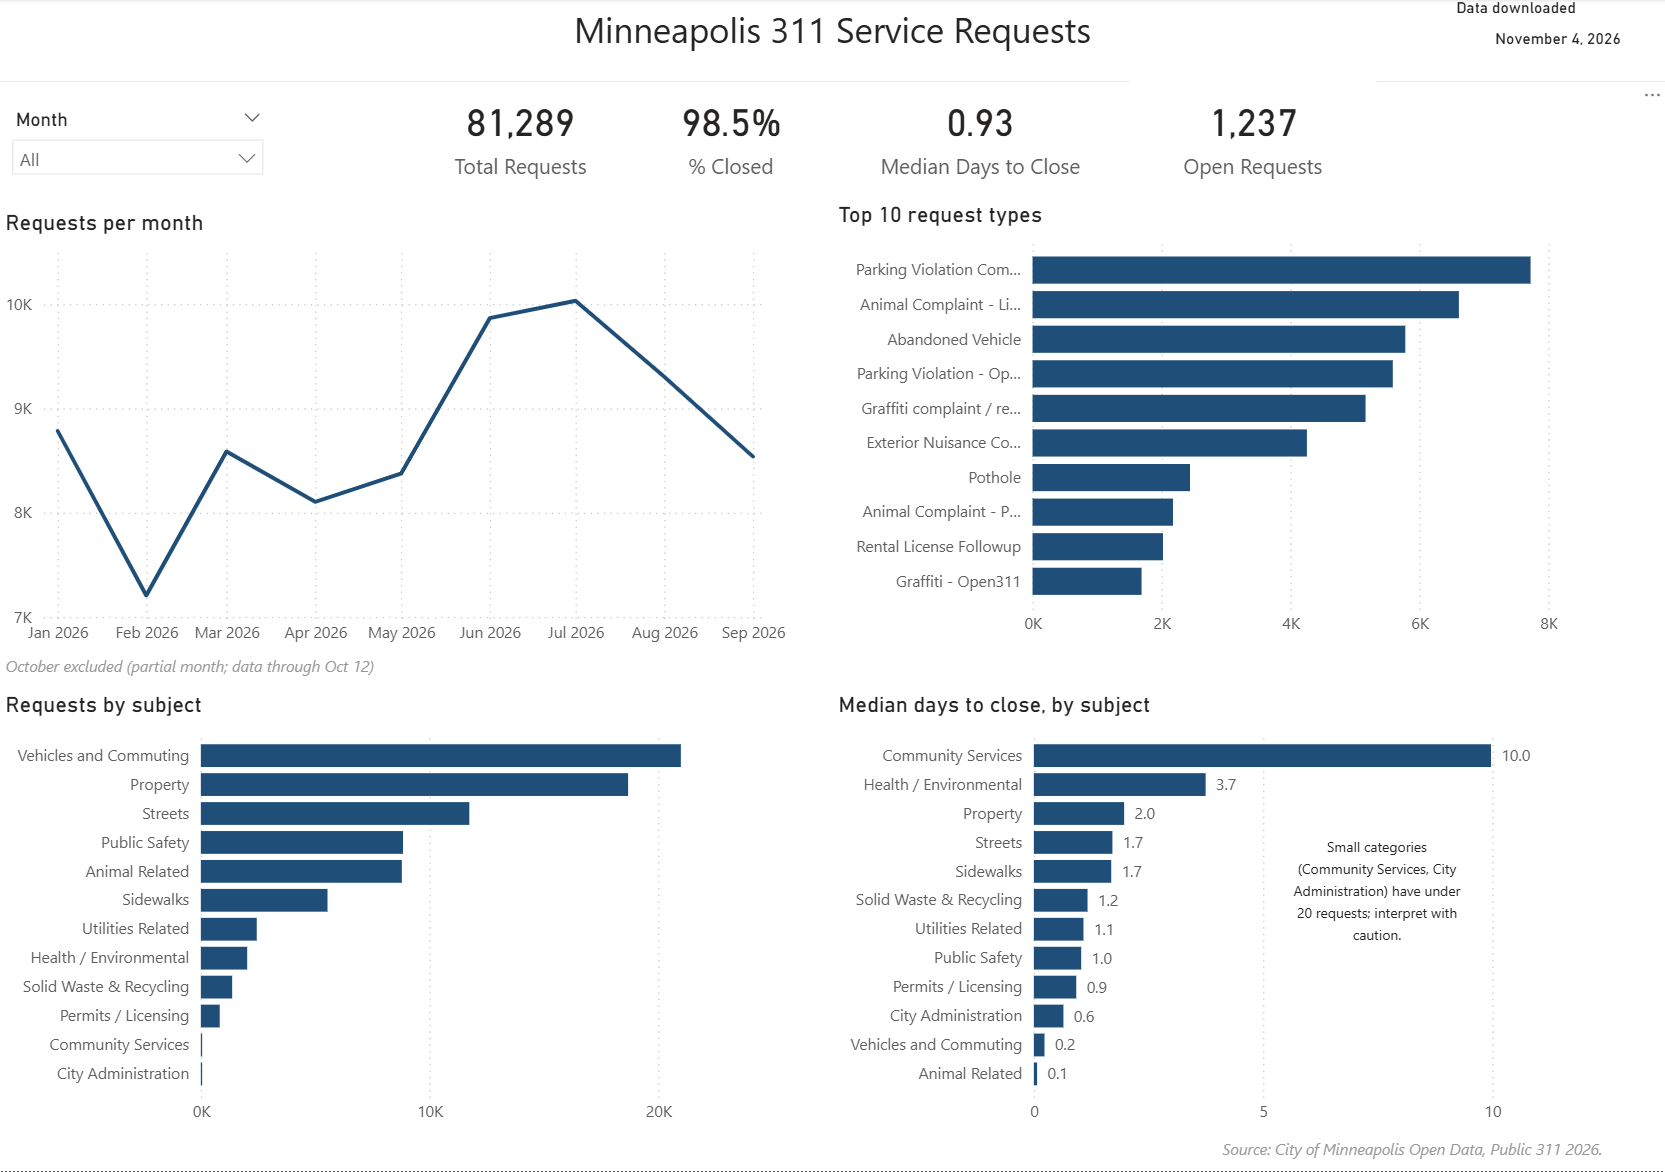

Layout of this report page (visuals, bound fields, positions):
{"tool":"powerbi","page":{"name":"Overview","canvas":[1280,900],"ordinal":0},"visuals":[{"type":"card","fields":{"Values":["Requests.Total Requests"]},"box":[316.7,46.3,168.2,115.2],"z":0},{"type":"card","fields":{"Values":["Requests.% Closed"]},"box":[484.9,46.3,155.1,115.2],"z":1000},{"type":"card","fields":{"Values":["Requests.Median Days to Close"]},"box":[640,46.3,227.7,115.2],"z":2000},{"type":"textbox","box":[0,0,1280,63.5],"z":3000},{"type":"card","title":"Data downloaded","fields":{"Values":["Requests.data_as_of"]},"box":[1114.1,0,165.9,51.4],"z":4000},{"type":"card","fields":{"Values":["Requests.Open Requests"]},"box":[867.7,46.3,190.4,115.2],"z":5000},{"type":"lineChart","title":"Requests per month","fields":{"Category":["DateTable.Month Start"],"Y":["Requests.Total Requests"]},"box":[0,161.3,609,343.3],"z":6000},{"type":"textbox","box":[934.6,868.5,345.6,31.5],"z":7000},{"type":"barChart","title":"Top 10 request types","fields":{"Category":["Requests.Request Type"],"Y":["Requests.Total Requests"]},"box":[639.7,155.1,562.1,342.5],"z":8000},{"type":"barChart","title":"Requests by subject","fields":{"Category":["Requests.Subject"],"Y":["Requests.Total Requests"]},"box":[0,531.2,609,341],"z":9000},{"type":"slicer","fields":{"Values":["DateTable.Month Start"]},"box":[0,79.6,213.3,75.3],"z":10000},{"type":"barChart","title":"Median days to close, by subject","fields":{"Category":["Requests.Subject"],"Y":["Requests.Median Days to Close"]},"box":[639.7,531.4,609,341],"z":11000},{"type":"textbox","box":[0,497.6,338.7,32.3],"z":12000},{"type":"textbox","box":[986,635.8,144.4,132.1],"z":13000}]}

Visuals, with their boxes in screenshot pixels (x1, y1, x2, y2), scaled from the page's 1280x900 canvas onto the 1665x1172 screenshot:
card - Requests.Total Requests: pyautogui.locateOnScreen(412, 60, 631, 210)
card - Requests.% Closed: pyautogui.locateOnScreen(631, 60, 832, 210)
card - Requests.Median Days to Close: pyautogui.locateOnScreen(832, 60, 1129, 210)
textbox: pyautogui.locateOnScreen(0, 0, 1664, 83)
"Data downloaded" card: pyautogui.locateOnScreen(1449, 0, 1664, 67)
card - Requests.Open Requests: pyautogui.locateOnScreen(1129, 60, 1376, 210)
"Requests per month" lineChart: pyautogui.locateOnScreen(0, 210, 792, 657)
textbox: pyautogui.locateOnScreen(1216, 1131, 1664, 1171)
"Top 10 request types" barChart: pyautogui.locateOnScreen(832, 202, 1563, 648)
"Requests by subject" barChart: pyautogui.locateOnScreen(0, 692, 792, 1136)
slicer - DateTable.Month Start: pyautogui.locateOnScreen(0, 104, 277, 202)
"Median days to close, by subject" barChart: pyautogui.locateOnScreen(832, 692, 1624, 1136)
textbox: pyautogui.locateOnScreen(0, 648, 441, 690)
textbox: pyautogui.locateOnScreen(1283, 828, 1470, 1000)
